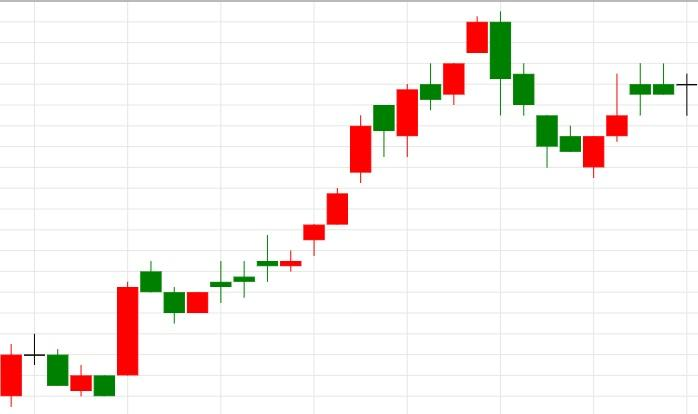bearish_engulfing_fall: (396, 11, 511, 157)
